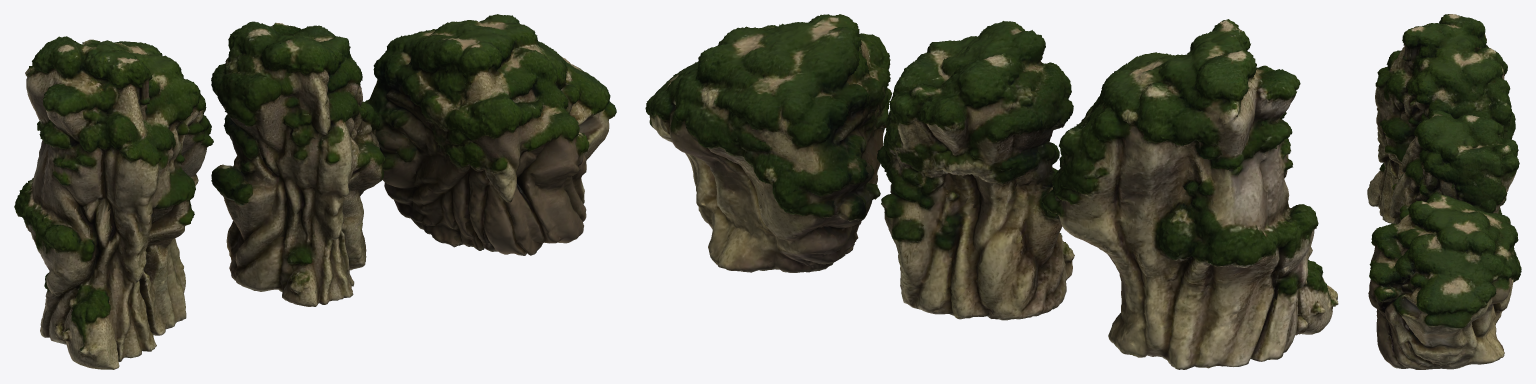
The model's file is Cliff_Formations.glb.
The picture shows the model from 3 angles, left to right: view 1: azimuth 30°, elevation 25°; view 2: azimuth 150°, elevation 25°; view 3: azimuth 270°, elevation 25°; orthographic projection. The views are drawn at different scales.
Visible parts, largest first — view 1: Cliff_Formations; view 2: Cliff_Formations; view 3: Cliff_Formations.
Part boxes in pixels (box(x1,y1,x2,y2)): Cliff_Formations: box(14, 14, 616, 369); Cliff_Formations: box(645, 14, 1338, 369); Cliff_Formations: box(1367, 14, 1521, 369).
Bounding box in the file's own units: 1.9 × 0.8644 × 0.6251.
Materials: 1 (1 with a texture image).
